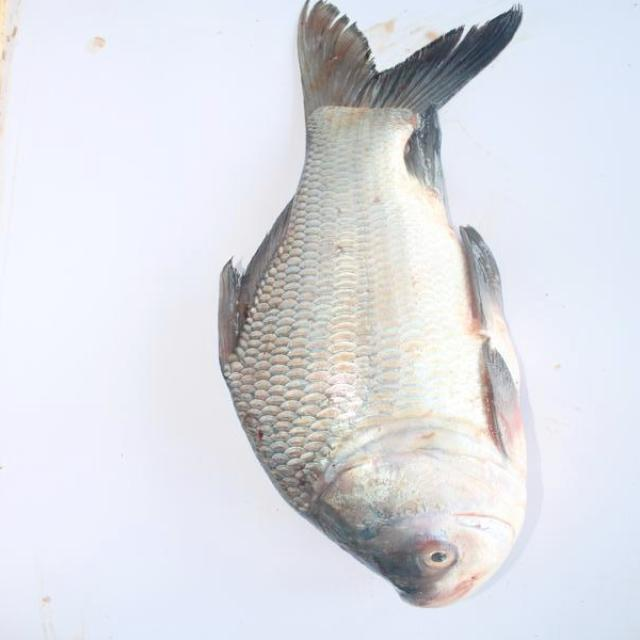Catla: (218, 0, 529, 608)
